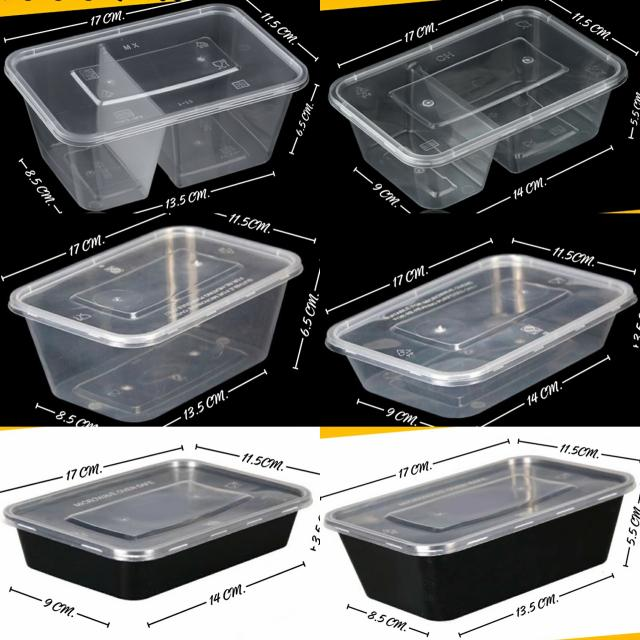plastik: (5, 4, 309, 211), (329, 8, 627, 209), (9, 226, 303, 422), (325, 254, 635, 418), (324, 456, 635, 619), (4, 460, 311, 599)
